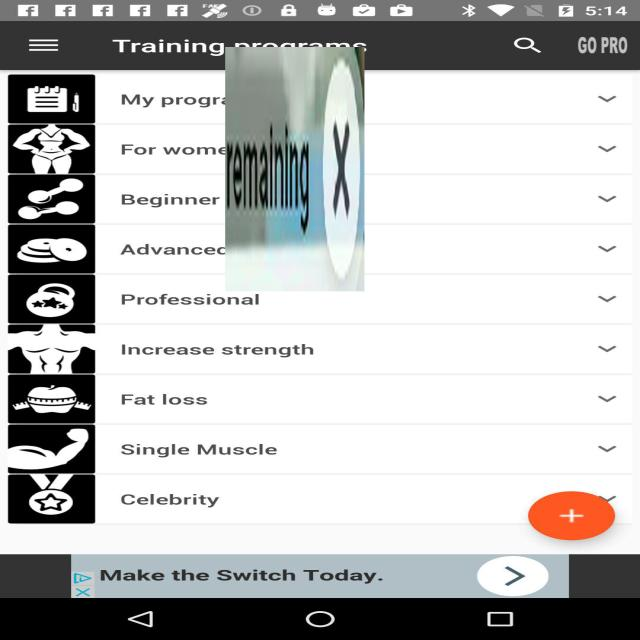misdirection: (225, 47, 365, 291)
